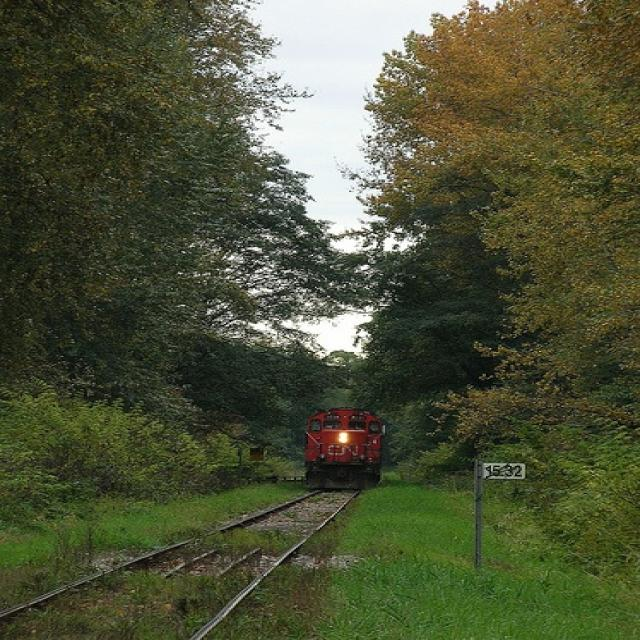train: (298, 406, 388, 492)
